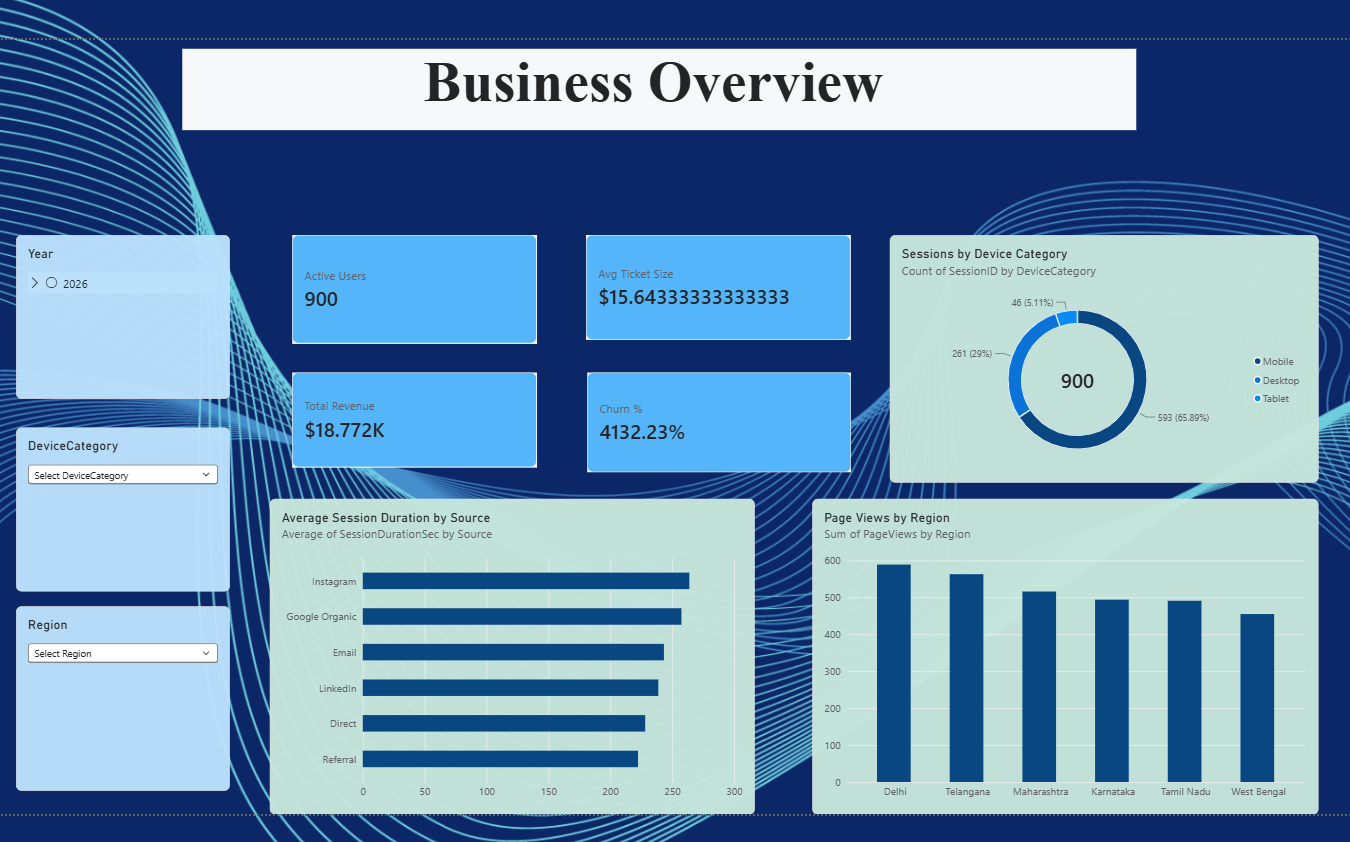

Layout of this report page (visuals, bound fields, positions):
{"tool":"powerbi","page":{"name":"Business Overview","canvas":[1920,1080],"ordinal":0},"visuals":[{"type":"cardVisual","fields":{"Data":["regional_market.Total Revenue"]},"box":[413.4,464,341.9,132.6],"z":0},{"type":"cardVisual","fields":{"Data":["regional_market.Active Users"]},"box":[413.4,272.1,341.9,151.7],"z":1000},{"type":"cardVisual","fields":{"Data":["regional_market.Churn %"]},"box":[825,464,368,139.5],"z":2000},{"type":"cardVisual","fields":{"Data":["regional_market.Avg Ticket Size"]},"box":[823.3,272.1,369.8,146.5],"z":3000},{"type":"listSlicer","fields":{"Values":["web_traffic.Date.Variation.Date Hierarchy.Year","web_traffic.Date.Variation.Date Hierarchy.Quarter","web_traffic.Date.Variation.Date Hierarchy.Month","web_traffic.Date.Variation.Date Hierarchy.Day"]},"box":[27.9,272.1,298.5,228.5],"z":4000},{"type":"listSlicer","fields":{"Values":["web_traffic.Region"]},"box":[27.9,790.1,298.5,257.3],"z":5000},{"type":"listSlicer","fields":{"Values":["web_traffic.DeviceCategory"]},"box":[27.9,540.7,298.5,228.5],"z":6000},{"type":"clusteredColumnChart","title":" Page Views by Region","fields":{"Category":["web_traffic.Region"],"Y":["Sum(web_traffic.PageViews)"]},"box":[1138.3,640.1,706,440.5],"z":7000},{"type":"donutChart","title":"Sessions by Device Category","fields":{"Category":["web_traffic.DeviceCategory"],"Y":["CountNonNull(web_traffic.SessionID)"]},"box":[1247.1,272.1,598.3,345.3],"z":8000},{"type":"clusteredBarChart","title":"Average Session Duration by Source","fields":{"Category":["web_traffic.Source"],"Y":["Avg(web_traffic.SessionDurationSec)"]},"box":[382.8,640.1,677.2,440.5],"z":9000},{"type":"textbox","box":[259.9,12.2,1330.8,113.4],"z":9001}]}

Visuals, with their boxes in screenshot pixels (x1, y1, x2, y2):
cardVisual - regional_market.Total Revenue: <bbox>287, 369, 532, 464</bbox>
cardVisual - regional_market.Active Users: <bbox>287, 231, 532, 340</bbox>
cardVisual - regional_market.Churn %: <bbox>583, 369, 847, 469</bbox>
cardVisual - regional_market.Avg Ticket Size: <bbox>581, 231, 847, 336</bbox>
listSlicer - web_traffic.Date.Variation.Date Hierarchy.Year x web_traffic.Date.Variation.Date Hierarchy.Quarter: <bbox>10, 231, 224, 395</bbox>
listSlicer - web_traffic.Region: <bbox>10, 603, 224, 788</bbox>
listSlicer - web_traffic.DeviceCategory: <bbox>10, 424, 224, 588</bbox>
" Page Views by Region" clusteredColumnChart: <bbox>808, 495, 1315, 812</bbox>
"Sessions by Device Category" donutChart: <bbox>886, 231, 1316, 479</bbox>
"Average Session Duration by Source" clusteredBarChart: <bbox>265, 495, 751, 812</bbox>
textbox: <bbox>176, 44, 1133, 125</bbox>
